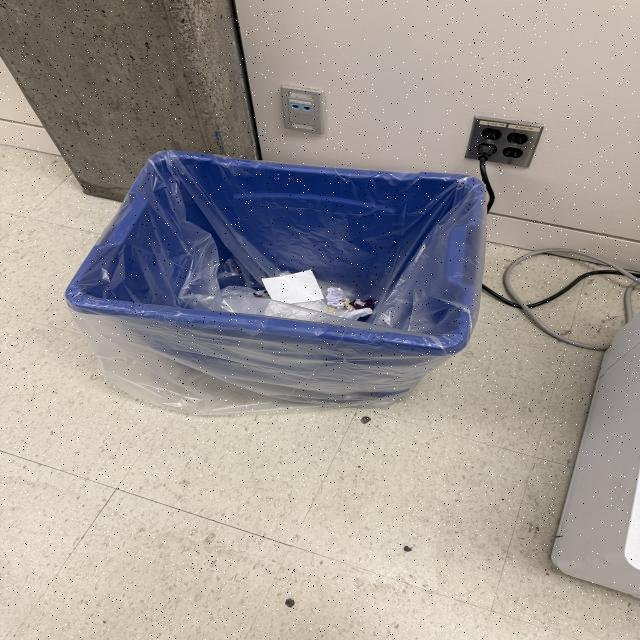Dustbin: (62, 148, 487, 401)
